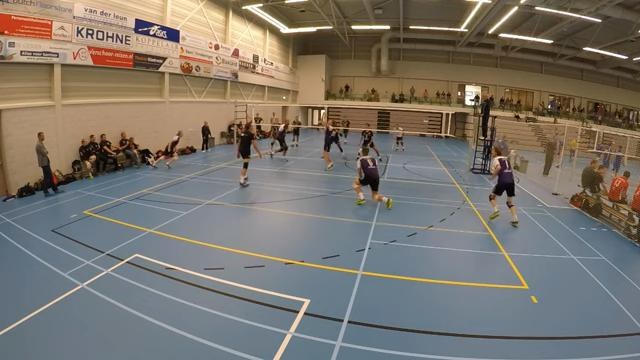alzata: (315, 108, 341, 176)
